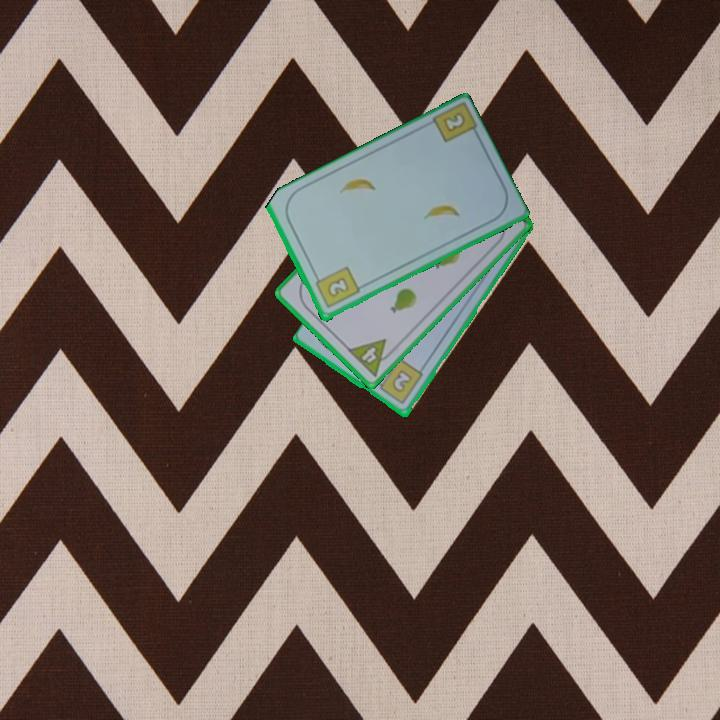2b: (372, 356, 426, 407), (311, 263, 362, 311), (439, 109, 468, 136)
4p: (344, 335, 398, 380)
